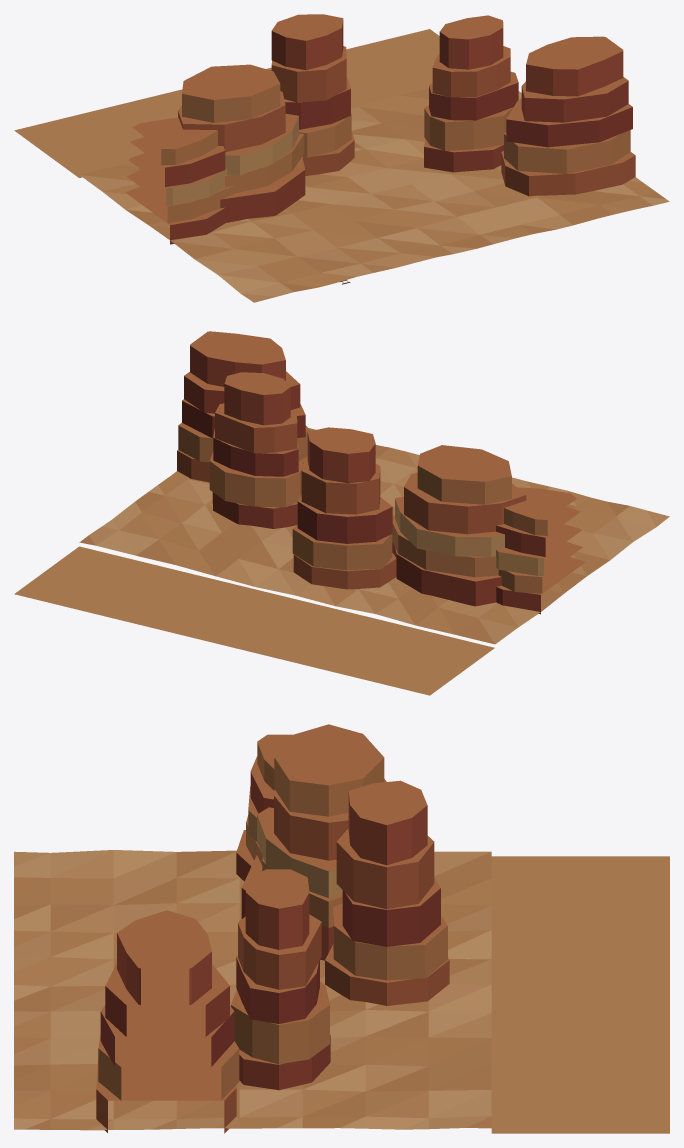
The picture shows the model from 3 angles, top to bottom: view 1: azimuth 30°, elevation 25°; view 2: azimuth 150°, elevation 25°; view 3: azimuth 270°, elevation 25°; orthographic projection. The views are drawn at different scales.
Visible parts, largest first — view 1: baked; view 2: baked; view 3: baked.
Part boxes in pixels (box(x1,y1,x2,y2)): baked: box(14, 14, 669, 302); baked: box(14, 331, 669, 695); baked: box(14, 724, 669, 1133).
Size of the model in its own units: 125 by 38.2 by 125.
